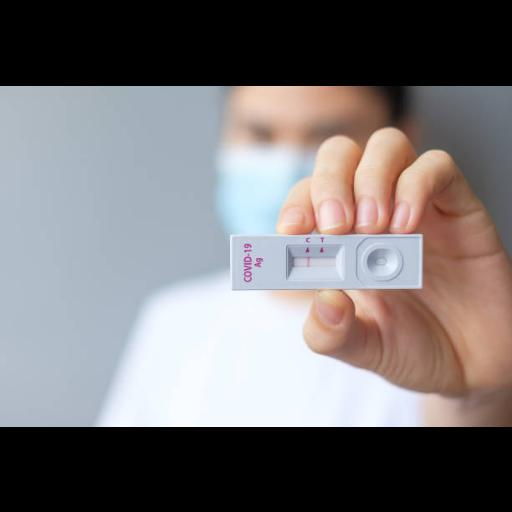Neg: (232, 234, 420, 286)
